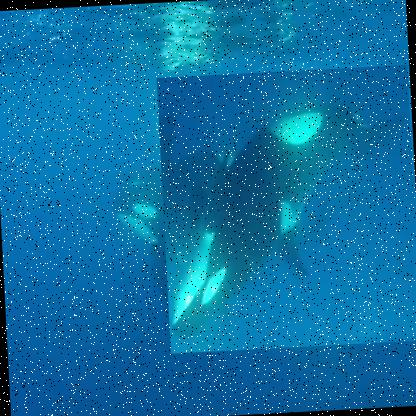killer_whale: (156, 64, 415, 355)
